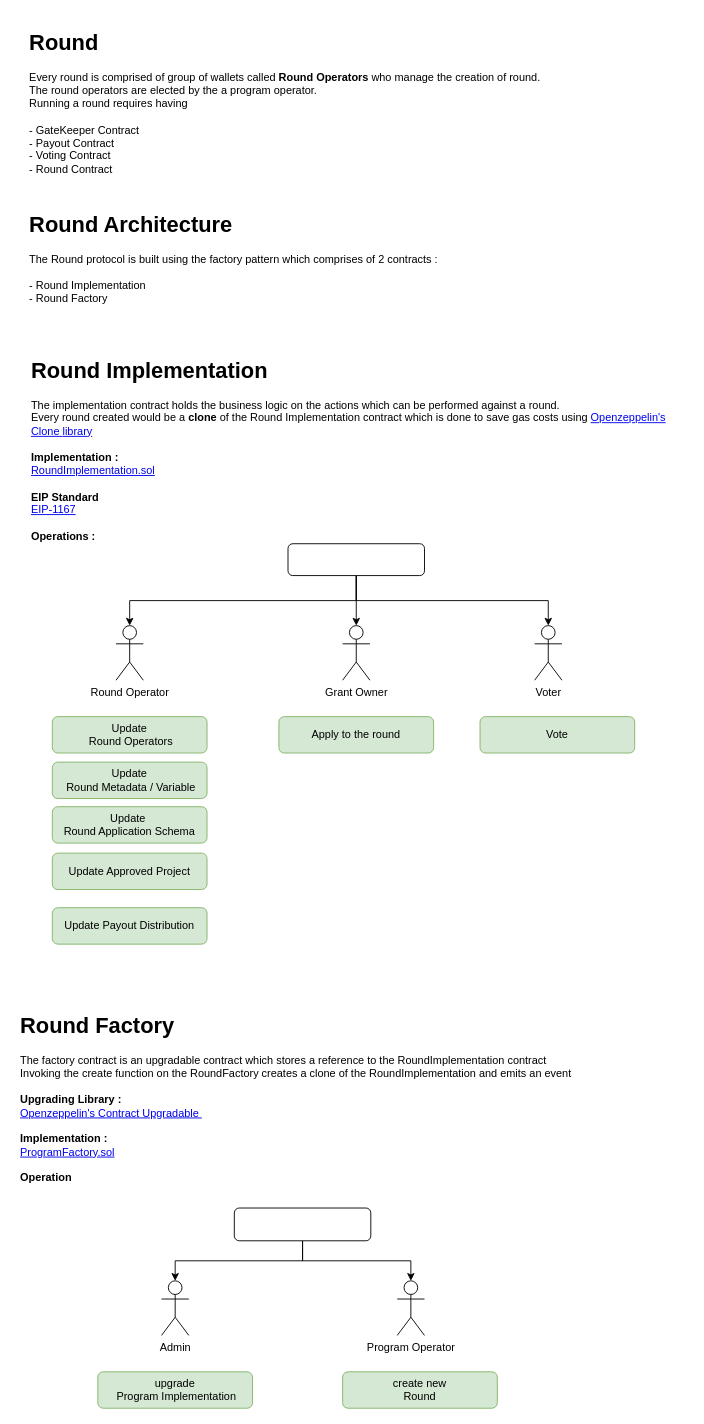
The diagram is 704 pixels wide and 1424 high, and some of its shapes have lost their labels. Each missing label, with the box of its shape:
RoundFactory: (233, 1207, 371, 1241)
RoundImplementation: (287, 543, 425, 576)
